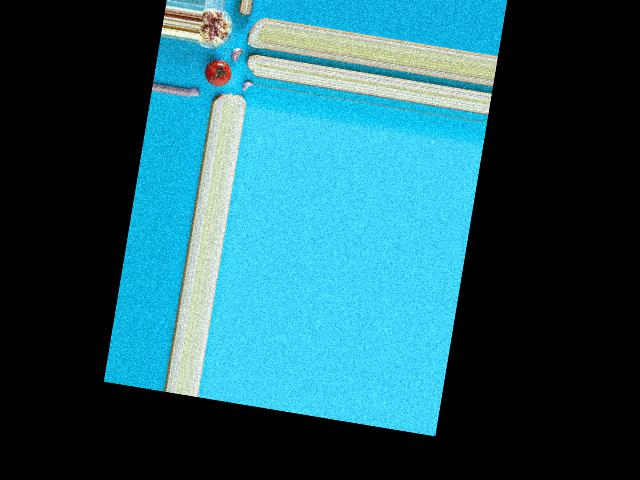tomato: (202, 59, 233, 88)
